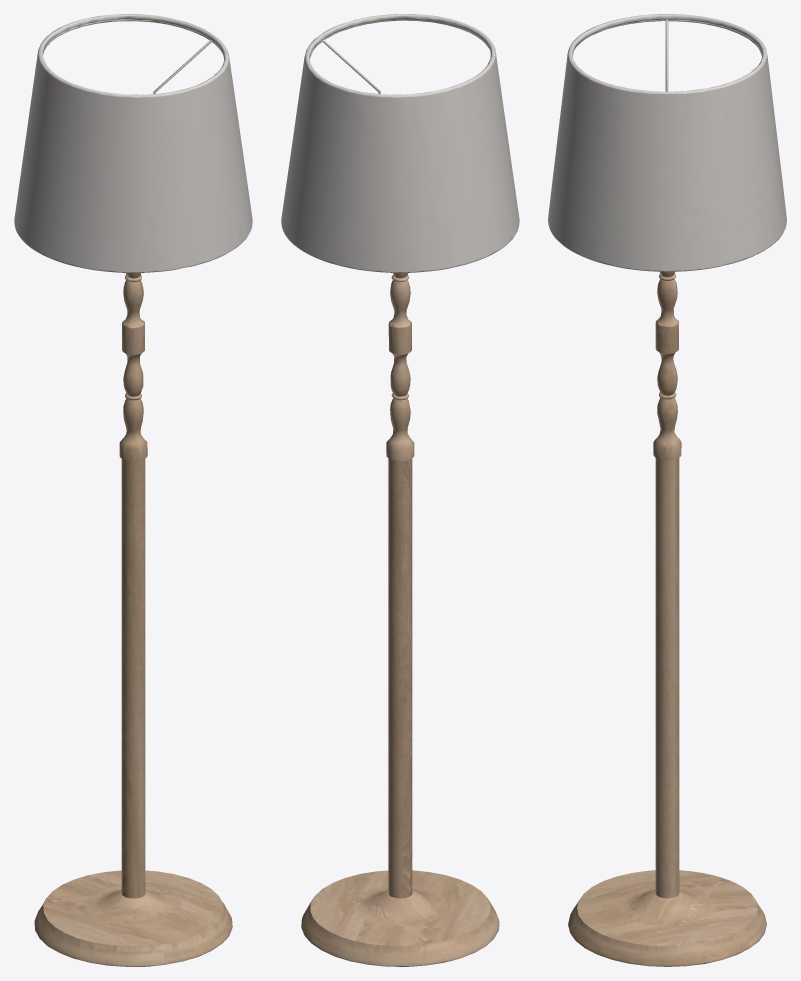
The model's file is LB-LR-FLOORLAMP-02.glb.
3 renders of one model, left to right at view 1: azimuth 30°, elevation 25°; view 2: azimuth 150°, elevation 25°; view 3: azimuth 270°, elevation 25°, orthographic.
Parts seen in each view (by area): view 1: Mesh_0; view 2: Mesh_0; view 3: Mesh_0.
Part boxes in pixels (x1,y1,x2,y2): Mesh_0: (14, 14, 252, 966); Mesh_0: (281, 14, 519, 966); Mesh_0: (548, 14, 786, 966).
Bounding box in the file's own units: 0.3725 × 1.5 × 0.3721.
Materials: 1 (1 with a texture image).
